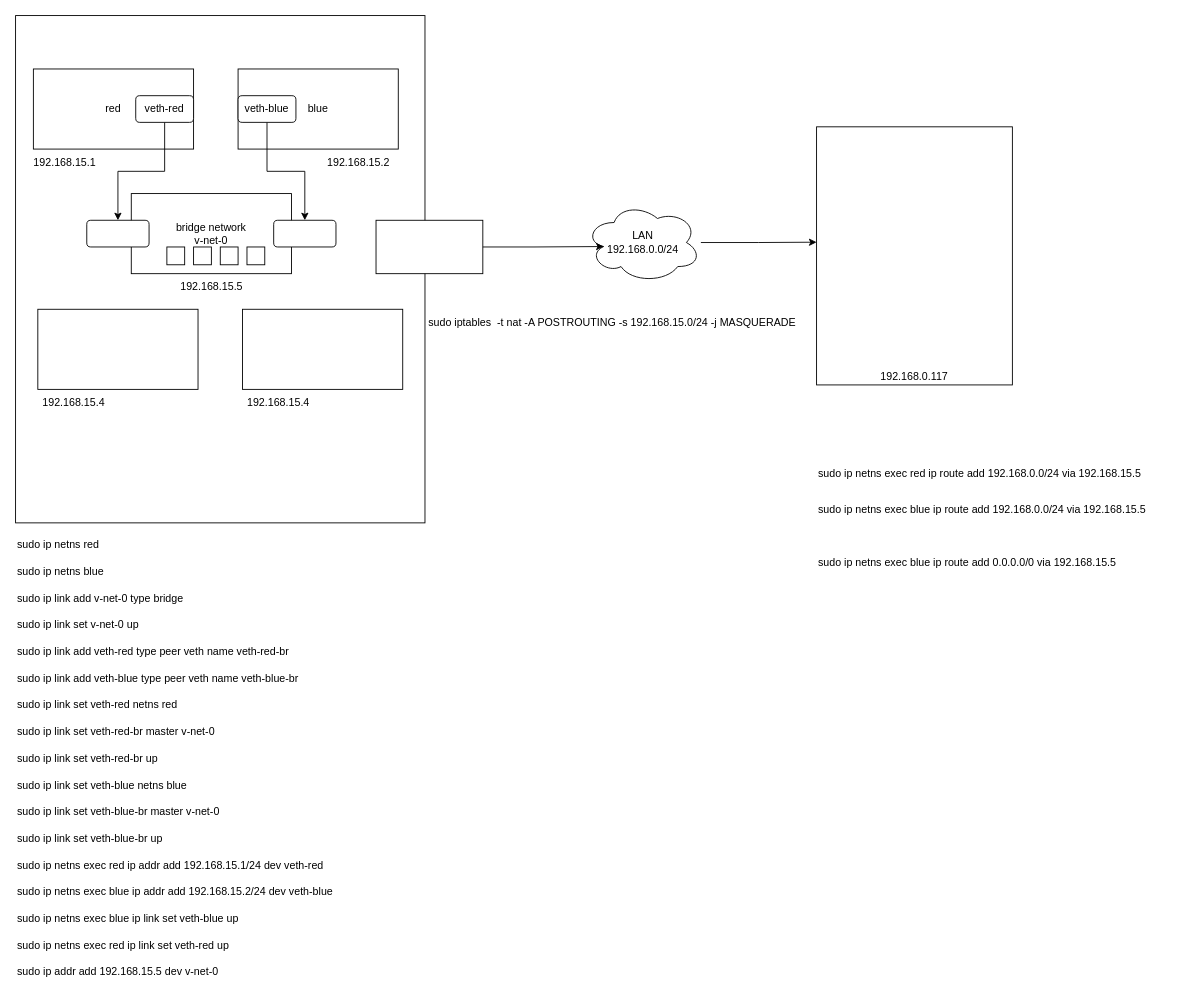
Some shapes in this 1179 by 1001 pixel diagram are drawn without their labels. The box of each missing label's shape, as (x1, y1, x2, y2) in pixels:
eth0: (375, 219, 483, 274)
veth-blue-br: (273, 219, 336, 247)
veth-red-br: (86, 219, 149, 247)
